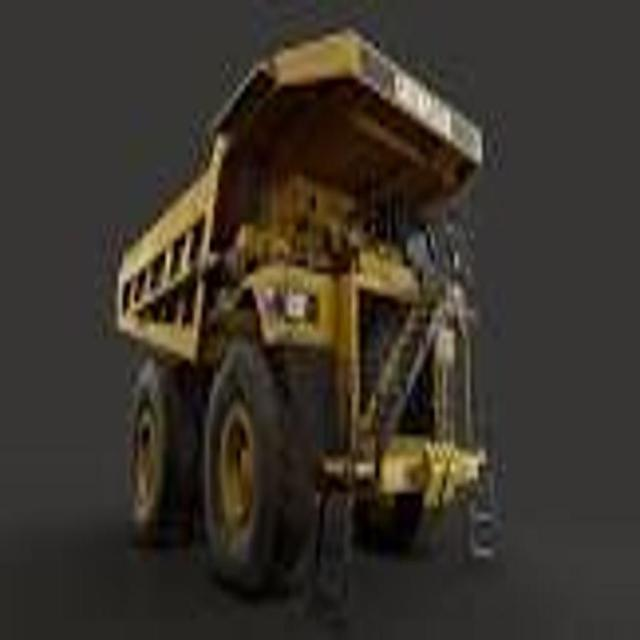dump_truck: (104, 9, 504, 640)
